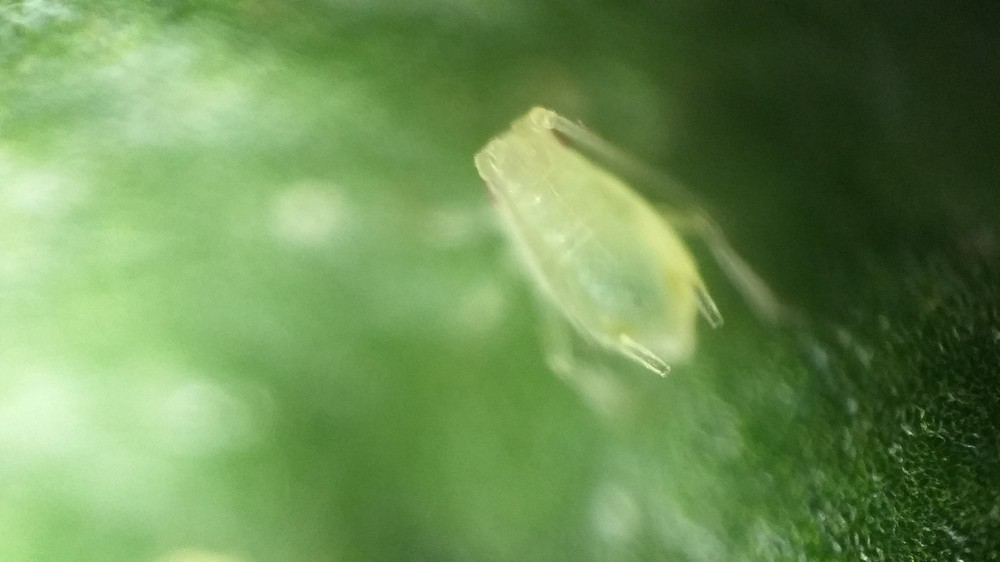Pulgon: (425, 90, 862, 454)
